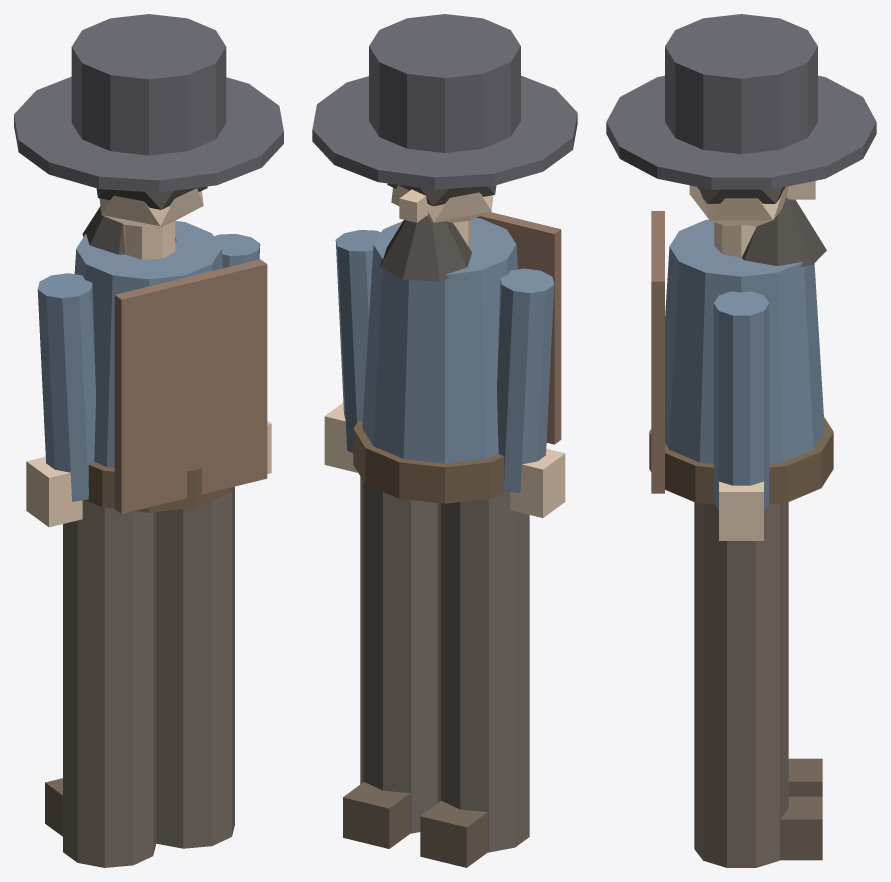
The model's file is merchant.glb.
The picture shows the model from 3 angles, left to right: view 1: azimuth 30°, elevation 25°; view 2: azimuth 150°, elevation 25°; view 3: azimuth 270°, elevation 25°; orthographic projection.
Parts seen in each view (by area): view 1: merchant; view 2: merchant; view 3: merchant.
Boxes of the visible parts, left/top/right/bottom form: merchant: left=14, top=14, right=283, bottom=867; merchant: left=312, top=14, right=577, bottom=867; merchant: left=606, top=14, right=876, bottom=867.
Size of the model in its own units: 0.6025 by 1.98 by 0.618.
